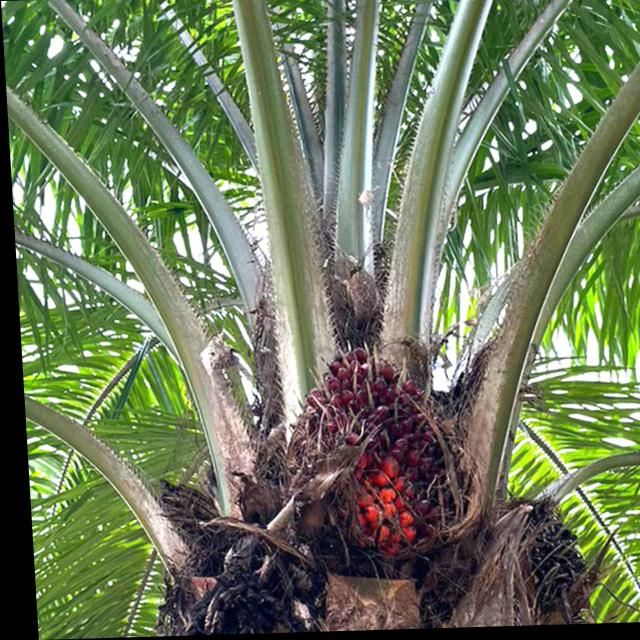ripe: (241, 324, 490, 589)
